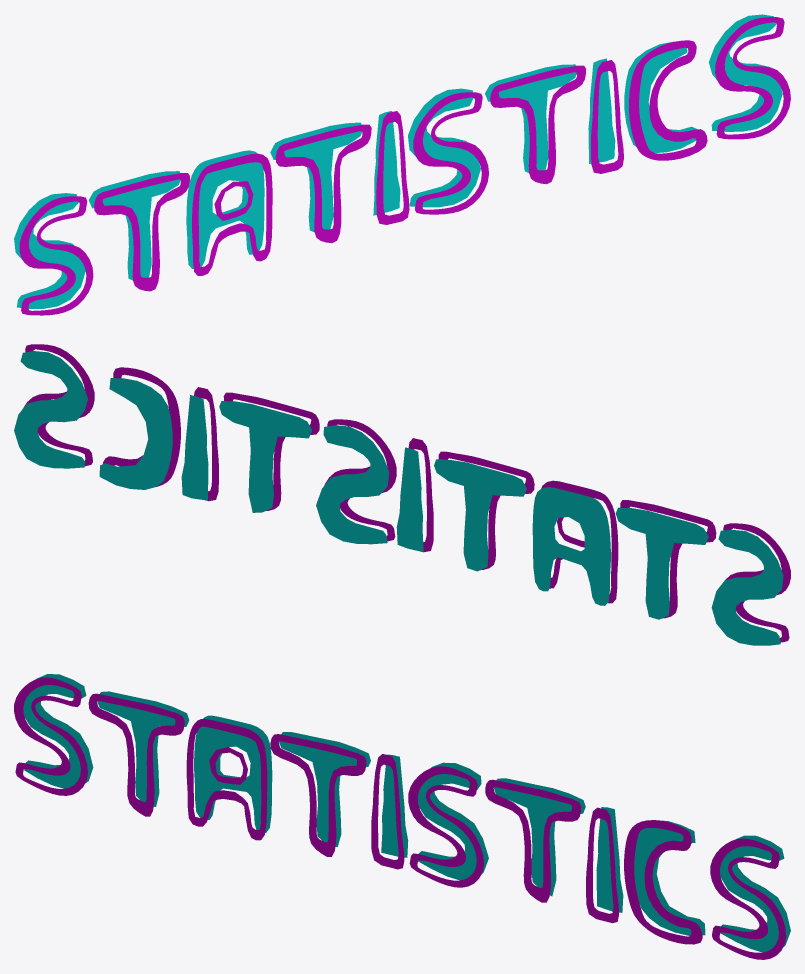
Rendered from mesh_text_statistics.fbx.
3 views of the same model, one above another, from view 1: azimuth 30°, elevation 25°; view 2: azimuth 150°, elevation 25°; view 3: azimuth 330°, elevation 25° (orthographic).
Visible parts, largest first — view 1: mesh_text_statistics1, mesh_text_statistics; view 2: mesh_text_statistics, mesh_text_statistics1; view 3: mesh_text_statistics, mesh_text_statistics1.
Part boxes in pixels (box(x1,y1,x2,y2)): mesh_text_statistics1: box(19, 17, 790, 315); mesh_text_statistics: box(14, 14, 782, 308); mesh_text_statistics: box(14, 351, 783, 645); mesh_text_statistics1: box(23, 344, 790, 642); mesh_text_statistics: box(23, 674, 790, 952); mesh_text_statistics1: box(14, 677, 786, 959).
Size of the model in its own units: 0.1458 by 0.0226 by 0.00212.
